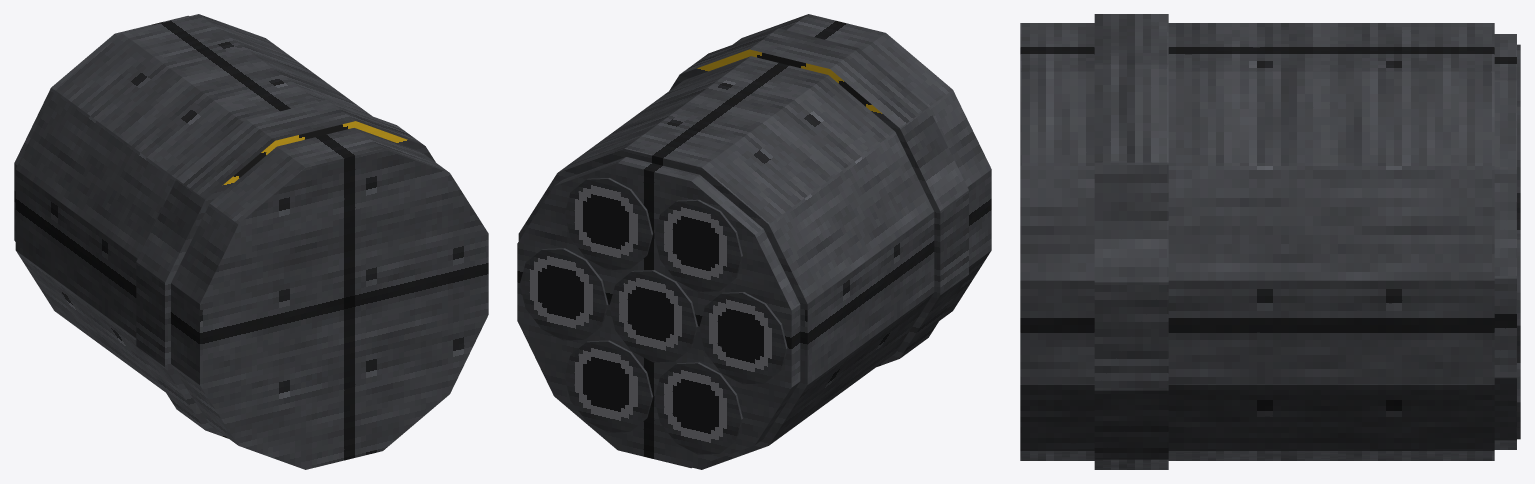
Rendered from rack_round_arsenal.glb.
3 views of the same model, side by side, from view 1: azimuth 30°, elevation 25°; view 2: azimuth 150°, elevation 25°; view 3: azimuth 270°, elevation 25° (orthographic). The views are drawn at different scales.
Parts seen in each view (by area): view 1: rack, rack_band, rack_face; view 2: rack, rack_face, rack_band, rack_tube, rack_tube.005, rack_tube.004, rack_tube.006, rack_tube.003, rack_tube.001, rack_tube.002; view 3: rack, rack_band, rack_face, rack_tube.001, rack_tube.002.
Part boxes in pixels (x1=…): rack: x1=15, y1=14, x2=488, y2=469; rack_band: x1=136, y1=100, x2=435, y2=438; rack_face: x1=14, y1=15, x2=189, y2=241; rack: x1=518, y1=14, x2=991, y2=469; rack_face: x1=517, y1=157, x2=800, y2=468; rack_band: x1=669, y1=28, x2=968, y2=366; rack_tube: x1=609, y1=270, x2=697, y2=362; rack_tube.005: x1=654, y1=362, x2=742, y2=454; rack_tube.004: x1=699, y1=292, x2=787, y2=384; rack_tube.006: x1=564, y1=340, x2=653, y2=432; rack_tube.003: x1=654, y1=199, x2=742, y2=291; rack_tube.001: x1=519, y1=248, x2=608, y2=340; rack_tube.002: x1=564, y1=178, x2=652, y2=269; rack: x1=1020, y1=23, x2=1494, y2=460; rack_band: x1=1094, y1=14, x2=1168, y2=469; rack_face: x1=1494, y1=34, x2=1516, y2=449; rack_tube.001: x1=1517, y1=233, x2=1520, y2=362; rack_tube.002: x1=1517, y1=101, x2=1520, y2=229.
Bounding box in the file's own units: 12.07 × 12.07 × 13.5.
Materials: 4 (4 with a texture image).
